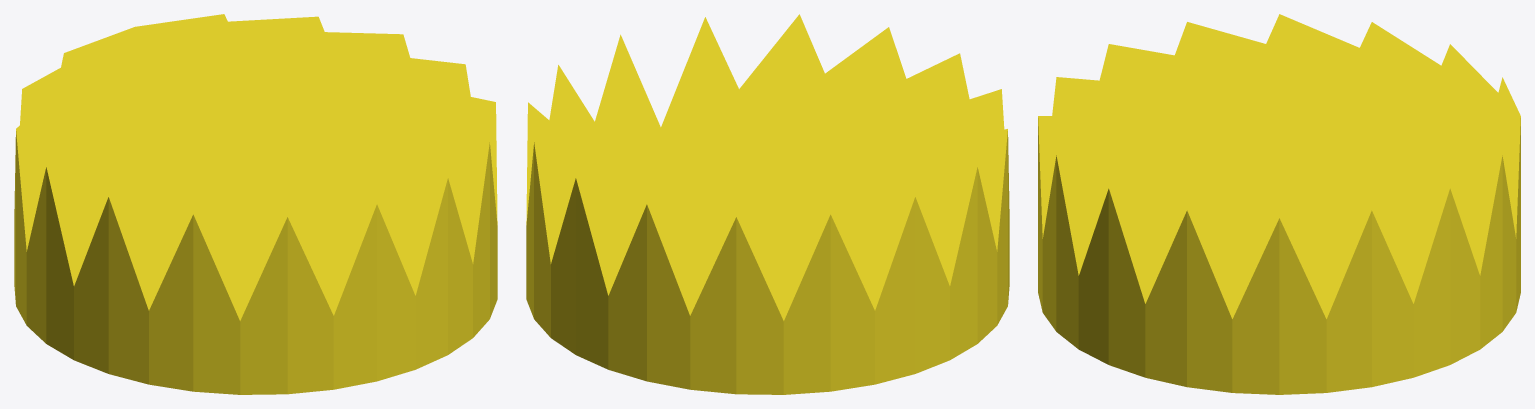
Rendered from Corona1.fbx.
3 renders of one model, left to right at view 1: azimuth 30°, elevation 25°; view 2: azimuth 150°, elevation 25°; view 3: azimuth 270°, elevation 25°, orthographic.
Visible parts, largest first — view 1: Cylinder; view 2: Cylinder; view 3: Cylinder.
Boxes of the visible parts, left/top/right/bottom form: Cylinder: left=14, top=14, right=497, bottom=394; Cylinder: left=526, top=14, right=1009, bottom=394; Cylinder: left=1038, top=14, right=1520, bottom=394.
Bounding box in the file's own units: 200 × 80.89 × 200.
Materials: 1 (1 with a texture image).
